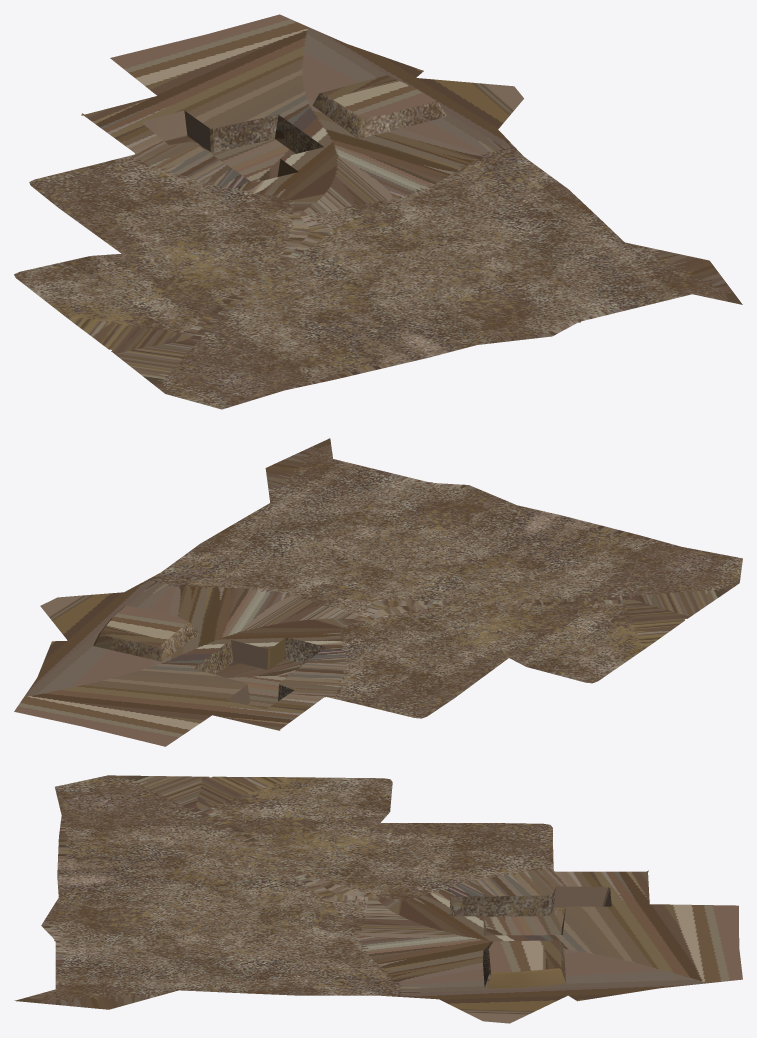
Rendered from suelo_t_2.obj.
The picture shows the model from 3 angles, top to bottom: view 1: azimuth 30°, elevation 25°; view 2: azimuth 150°, elevation 25°; view 3: azimuth 270°, elevation 25°; orthographic projection. The views are drawn at different scales.
Visible parts, largest first — view 1: suelo_t_2; view 2: suelo_t_2; view 3: suelo_t_2.
Part boxes in pixels (left/top/right/bottom): suelo_t_2: left=14, top=14, right=742, bottom=409; suelo_t_2: left=14, top=438, right=742, bottom=746; suelo_t_2: left=14, top=775, right=742, bottom=1023.
Bounding box in the file's own units: 250 × 15.2 × 311.
